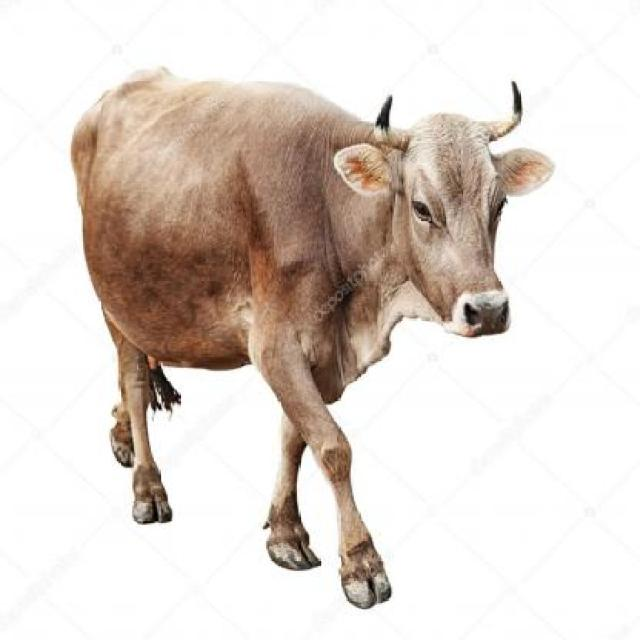Cow: (58, 43, 554, 619)
